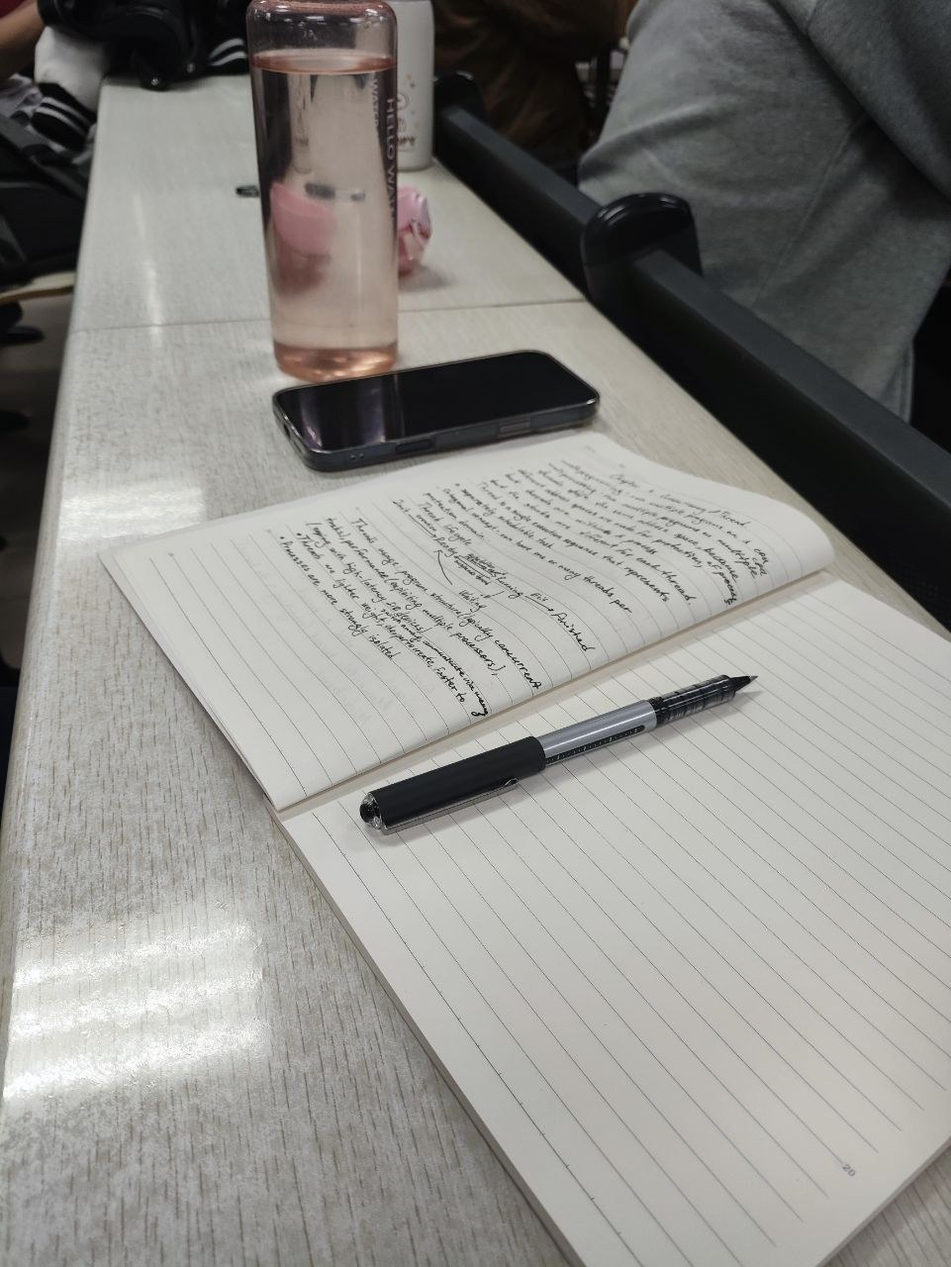cell phone: (271, 347, 601, 472)
